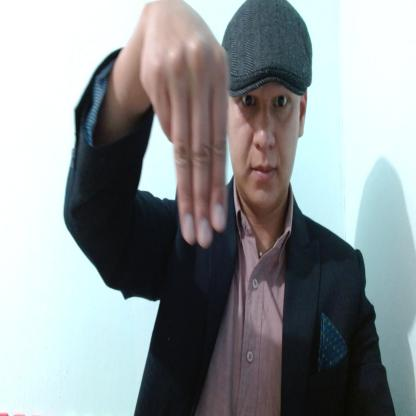M: (136, 0, 231, 248)
